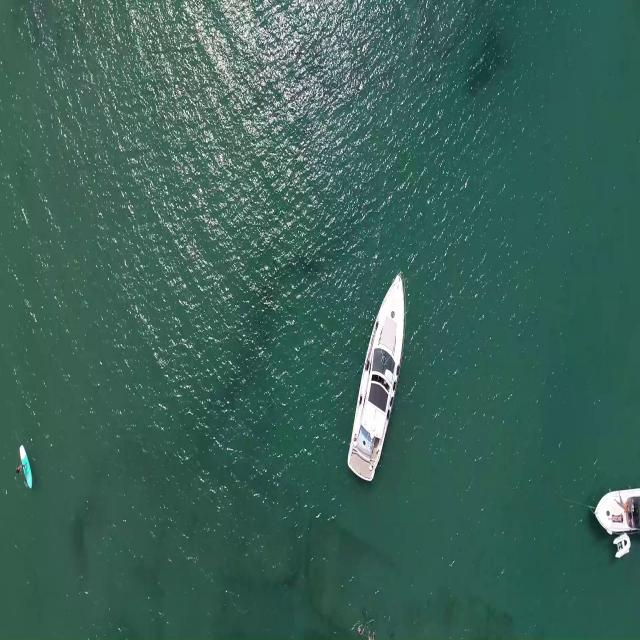boat: (346, 271, 405, 483), (592, 485, 640, 558)
person: (16, 460, 27, 475)
surfboard: (20, 444, 33, 491)
